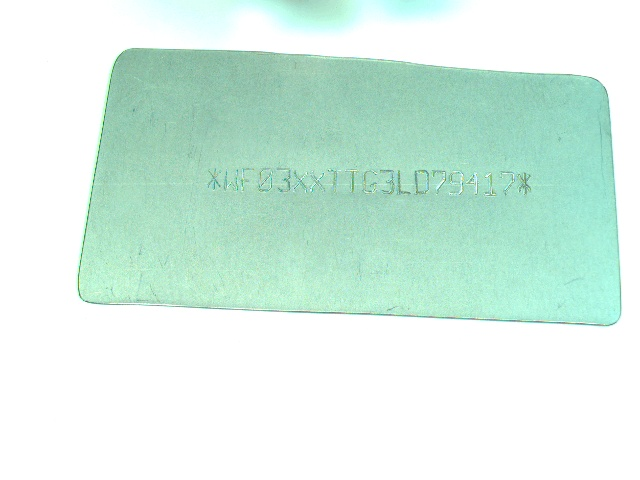0: (257, 167, 274, 193)
1: (483, 171, 498, 198)
3: (381, 168, 395, 196), (277, 167, 292, 193)
4: (466, 171, 482, 197)
7: (499, 170, 516, 198), (432, 169, 447, 195)
9: (448, 170, 464, 196)
d: (413, 169, 430, 195)
f: (241, 167, 255, 194)
g: (362, 169, 380, 196)
l: (396, 169, 411, 195)
t: (326, 167, 344, 195), (343, 168, 360, 195)
w: (223, 167, 239, 192)
x: (309, 168, 325, 196), (293, 169, 308, 194)
